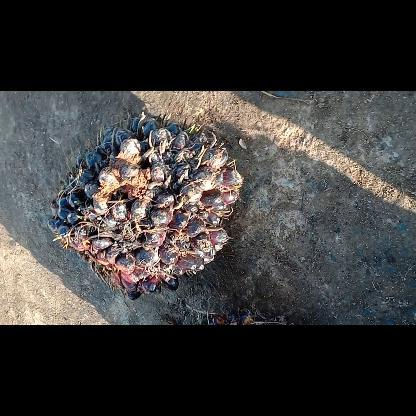TBS mentah: (42, 110, 248, 302)
